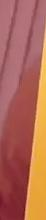scratch: (0, 1, 46, 220)
